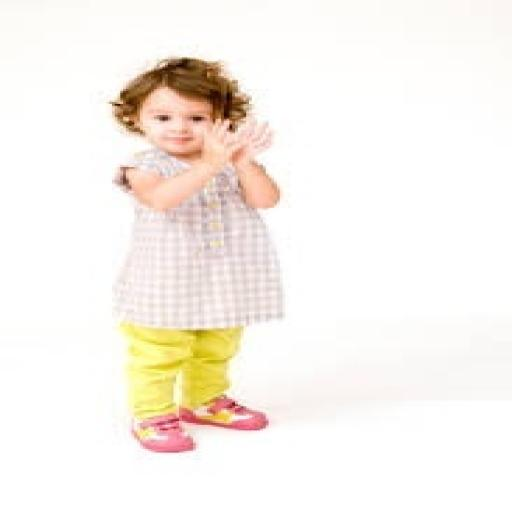clapping: (106, 56, 288, 454)
